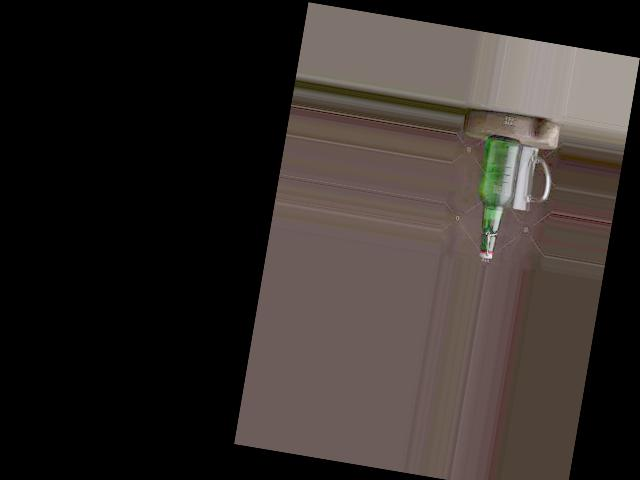beer: (468, 134, 522, 260)
